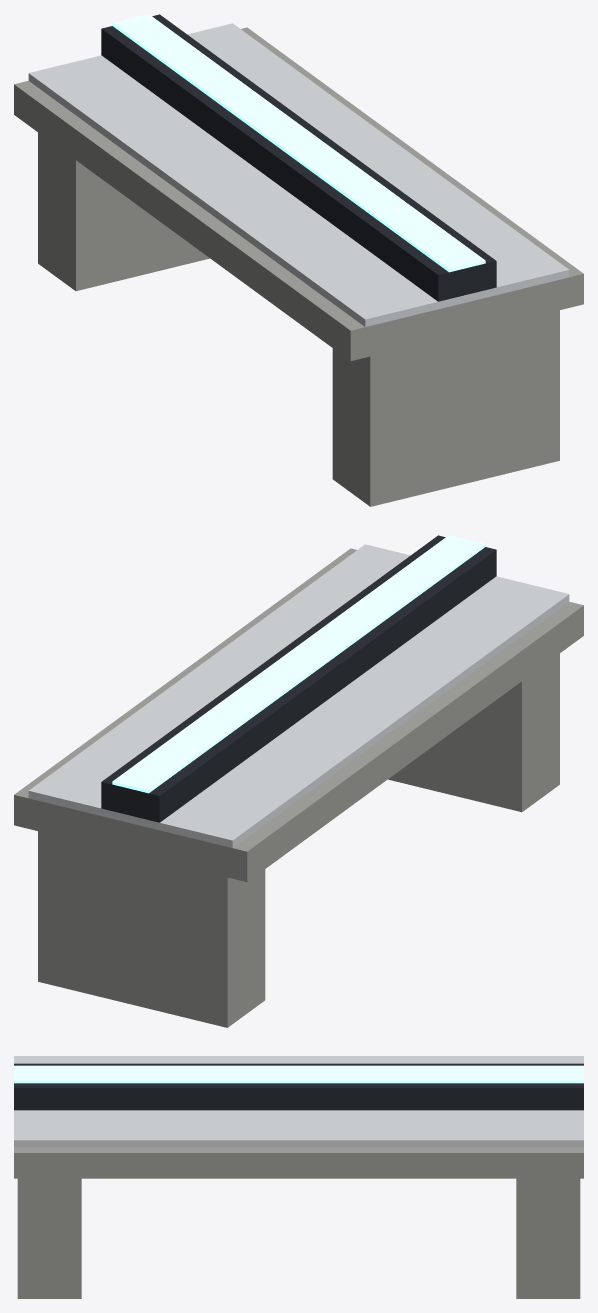
The model's file is road_rail_x_bridge_lod2.glb.
The picture shows the model from 3 angles, top to bottom: view 1: azimuth 30°, elevation 25°; view 2: azimuth 150°, elevation 25°; view 3: azimuth 270°, elevation 25°; orthographic projection. The views are drawn at different scales.
Parts seen in each view (by area): view 1: body; view 2: body; view 3: body.
Part boxes in pixels (bbox=[...]): body: bbox=[14, 14, 583, 506]; body: bbox=[14, 535, 583, 1027]; body: bbox=[14, 1056, 583, 1298].
Bounding box in the file's own units: 3.2 × 2.89 × 8.
